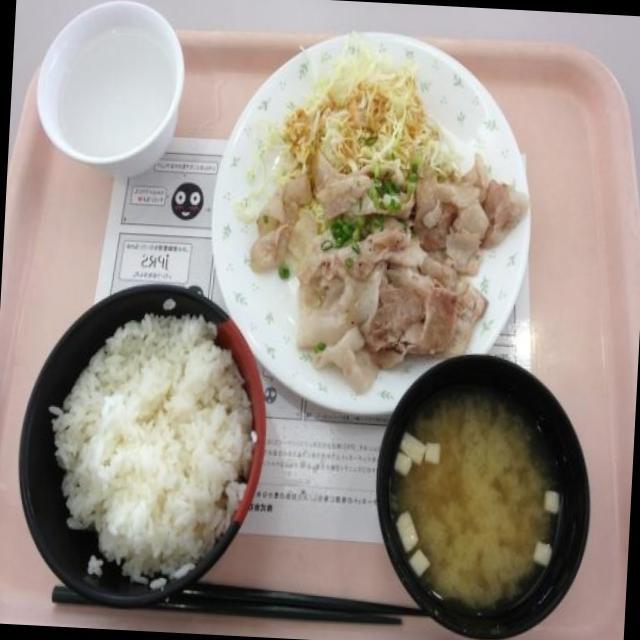Rice: (49, 307, 259, 587)
